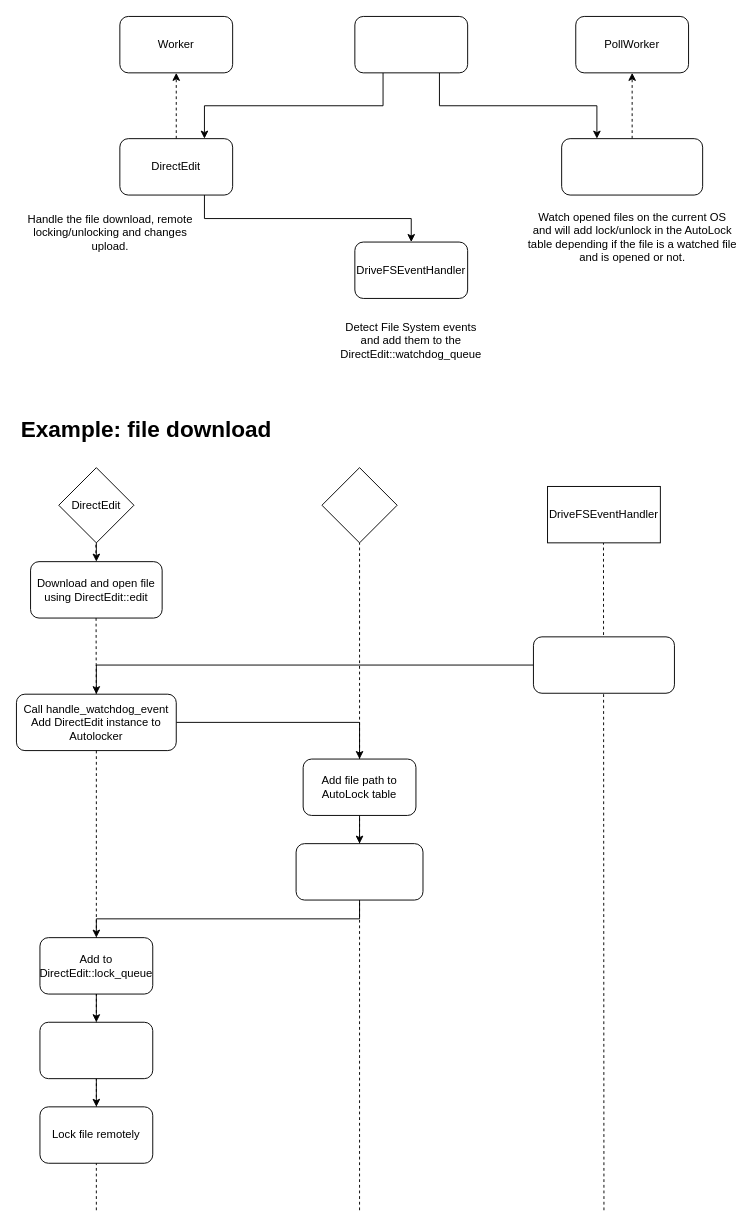
The diagram is 754 pixels wide and 1228 high, and some of its shapes have lost their labels. The shapes that lost their labels are listed below. From the top down, each one's centre as x and y in pixels, then its label:
At (411,44): "Manager".
At (632,166): "ProcessAutoLockerWorker".
At (359,505): "AutoLocker".
At (603,664): "Detect change inside DirectEdit folder Add event to DirectEdit::watchdog_queue".
At (359,871): "Call DirectEdit::autolock_lock".
At (96,1050): "Call handle_lock_queue".
